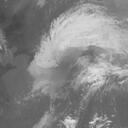cyclone: (34, 4, 117, 92)
